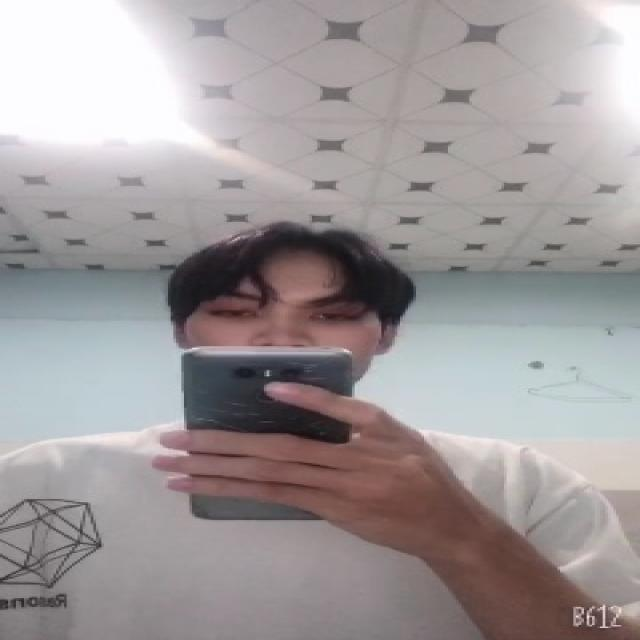Phone: (180, 348, 359, 523)
